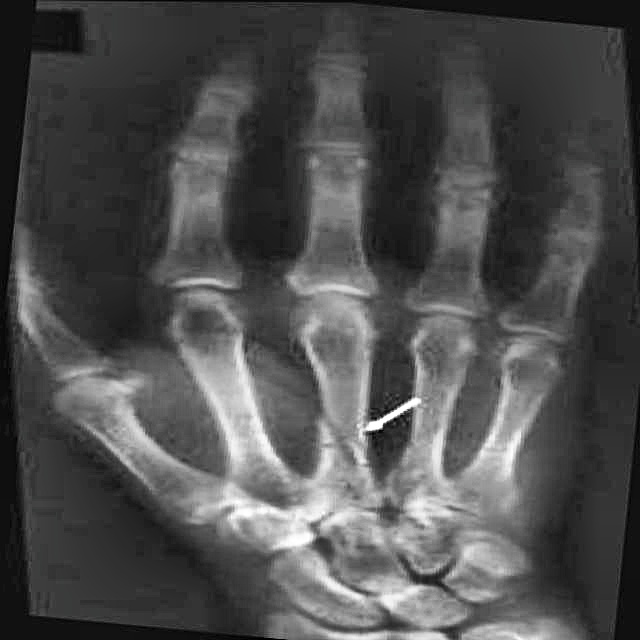Oblique Displaced: (283, 384, 389, 492)
